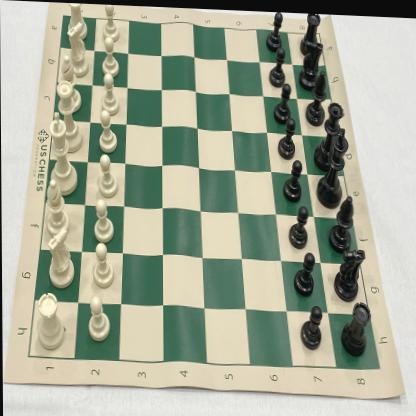black-bishop: (326, 191, 354, 250), (306, 66, 325, 123)
black-king: (317, 124, 350, 204)
black-knight: (333, 244, 366, 300), (299, 33, 323, 88)
black-pawn: (299, 298, 322, 348), (292, 249, 316, 295), (282, 156, 303, 200), (288, 202, 309, 246), (277, 115, 296, 159), (266, 9, 284, 51), (268, 44, 286, 86), (274, 80, 291, 122)
black-queen: (314, 97, 343, 167)
black-rook: (340, 298, 371, 355), (300, 10, 322, 56)
white-bishop: (44, 178, 69, 236), (60, 53, 82, 112)
white-king: (48, 111, 77, 196)
white-knight: (45, 227, 75, 289), (65, 22, 90, 78)
white-pawn: (86, 295, 111, 342), (92, 242, 114, 288), (93, 197, 114, 243), (99, 152, 118, 196), (98, 108, 117, 151), (101, 72, 118, 115), (101, 36, 119, 76), (102, 4, 120, 42)
white-queen: (55, 80, 82, 154)
white-rook: (35, 290, 65, 350), (68, 2, 89, 41)
